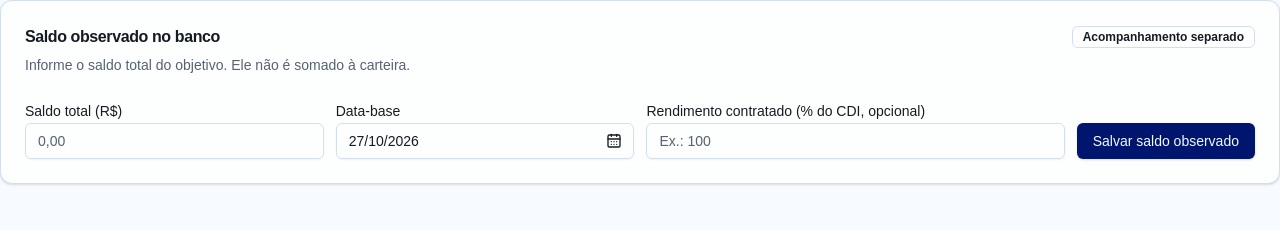
Test: PortfolioObjectiveBalanceTracking › keeps an invalid calendar date beside the date field
This screenshot has width=1280, height=230.
Type "10" into the field named "Saldo observado de Viagem". click: (174, 141)
box: [25,123,324,159]
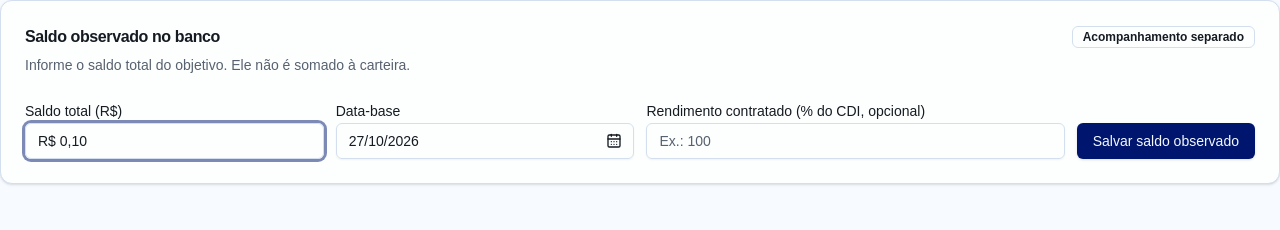
Replace the text in the field labelled "Data-base" with "31/02/2026". click: (485, 141)
box: [336,123,634,159]
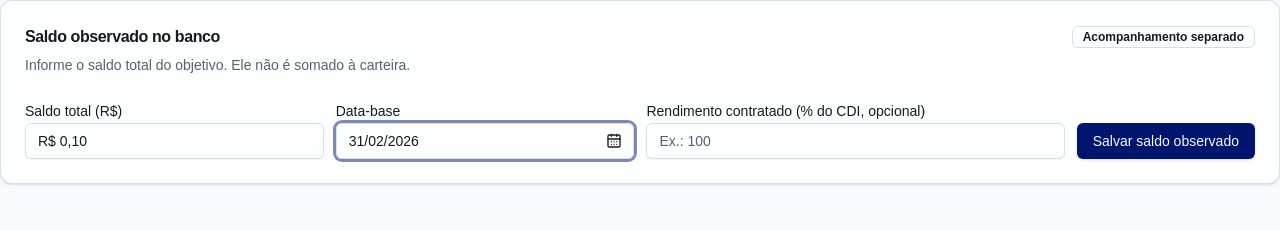
Click the button "Salvar saldo observado". click: (1166, 141)
box: [1077,123,1255,159]
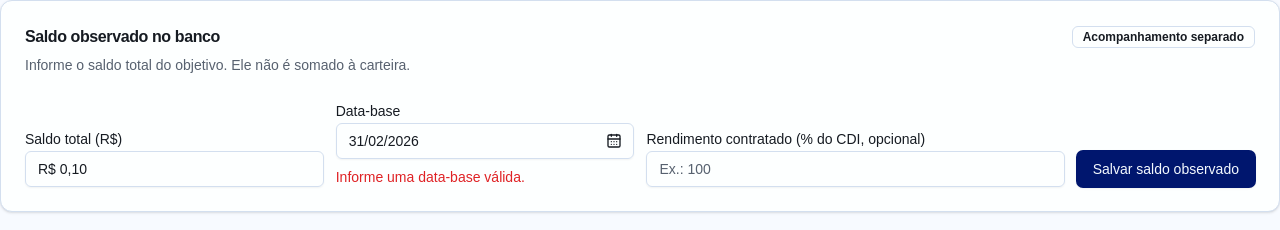
expect the message shows "data-base": met, box [336,169,525,185]
